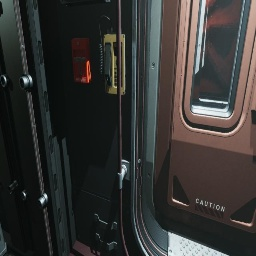EmergencyPhone ,: (99, 16, 126, 95)
FireAlarm ,: (71, 38, 91, 84)
